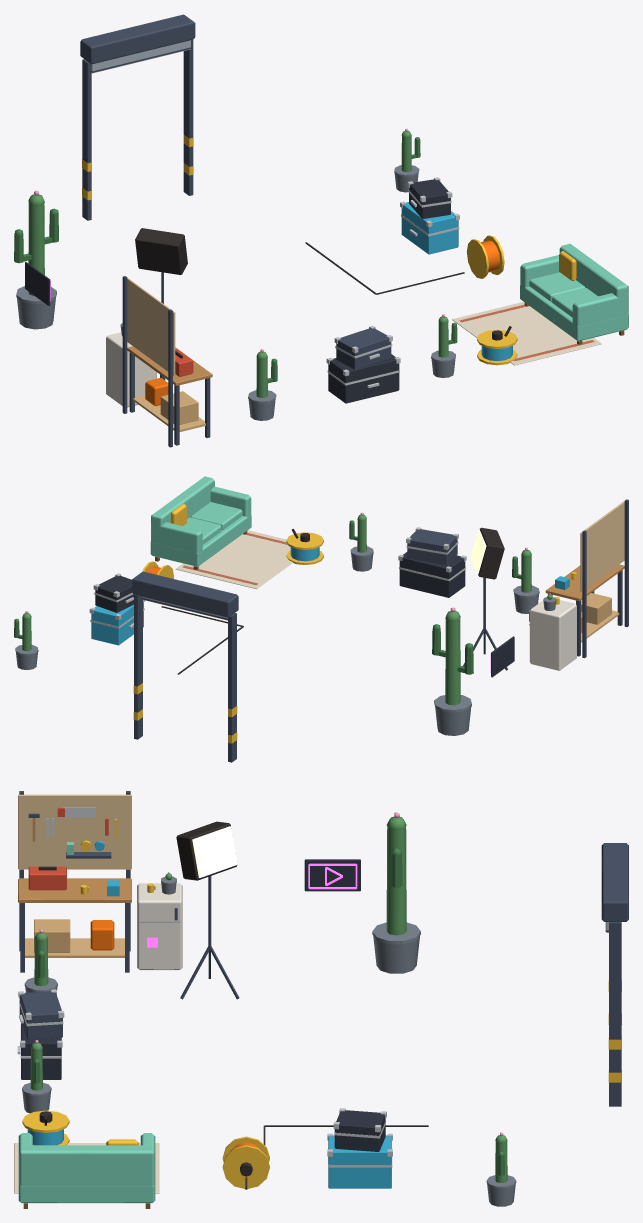
Rendered from einrichtung_garage.glb.
3 views of the same model, one above another, from view 1: azimuth 30°, elevation 25°; view 2: azimuth 150°, elevation 25°; view 3: azimuth 270°, elevation 25° (orthographic). The views are drawn at different scales.
Parts seen in each view (by area): view 1: einrichtung_garage; view 2: einrichtung_garage; view 3: einrichtung_garage.
Part boxes in pixels (bbox=[...]): einrichtung_garage: bbox=[14, 14, 628, 447]; einrichtung_garage: bbox=[14, 476, 628, 762]; einrichtung_garage: bbox=[14, 791, 628, 1208].
Size of the model in its own units: 6.79 by 2.49 by 6.75.
